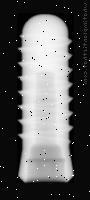Blue Sky Bio: (17, 13, 74, 183)
